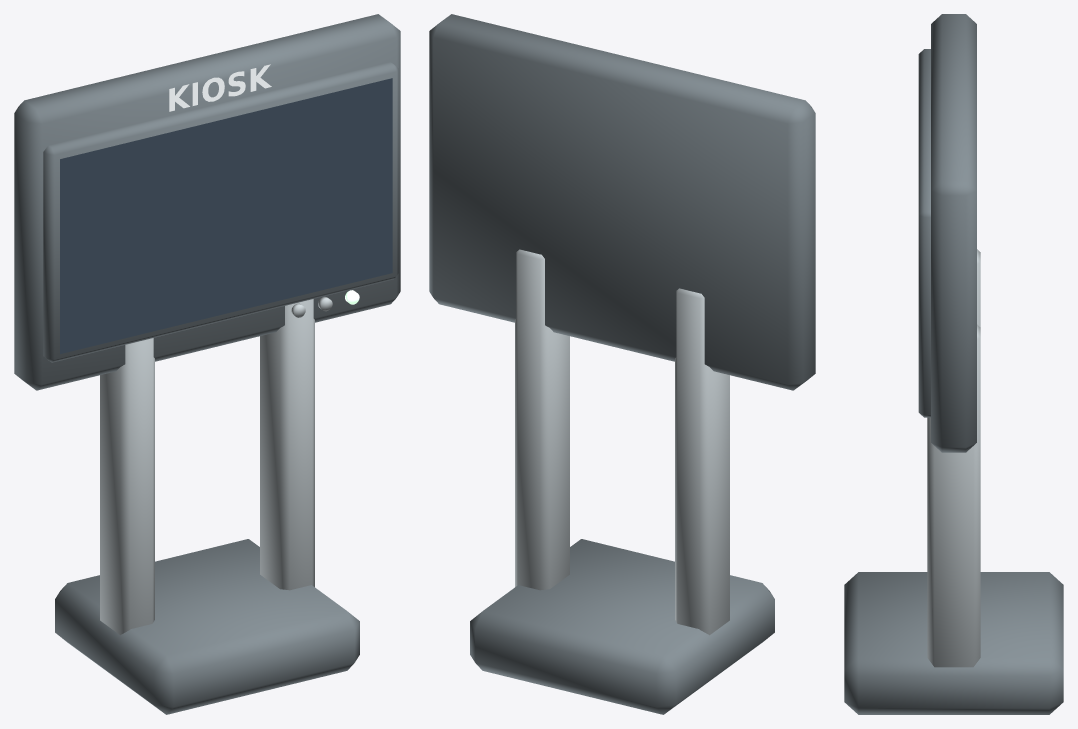
Rendered from kiosk_standard.glb.
3 views of the same model, side by side, from view 1: azimuth 30°, elevation 25°; view 2: azimuth 150°, elevation 25°; view 3: azimuth 270°, elevation 25° (orthographic). The views are drawn at different scales.
Parts seen in each view (by area): view 1: LiveViewSurface_glass, DisplayHousing_frame, Base_frame, Support_steel, LiveViewSurfaceFrame_frame, TypeLabel_white; view 2: DisplayHousing_frame, Support_steel, Base_frame; view 3: Base_frame, DisplayHousing_frame, Support_steel, LiveViewSurfaceFrame_frame.
Part boxes in pixels (x1,y1,x2,y2): LiveViewSurface_glass: (60, 78, 392, 353); DisplayHousing_frame: (14, 14, 400, 390); Base_frame: (55, 539, 359, 714); Support_steel: (100, 299, 314, 635); LiveViewSurfaceFrame_frame: (43, 62, 398, 362); TypeLabel_white: (169, 64, 271, 111); DisplayHousing_frame: (429, 14, 815, 390); Support_steel: (515, 249, 729, 635); Base_frame: (470, 539, 774, 714); Base_frame: (844, 572, 1063, 714); DisplayHousing_frame: (931, 14, 976, 452); Support_steel: (927, 249, 980, 667); LiveViewSurfaceFrame_frame: (918, 49, 930, 417).
Size of the model in its own units: 1.18 by 1.79 by 0.62.
